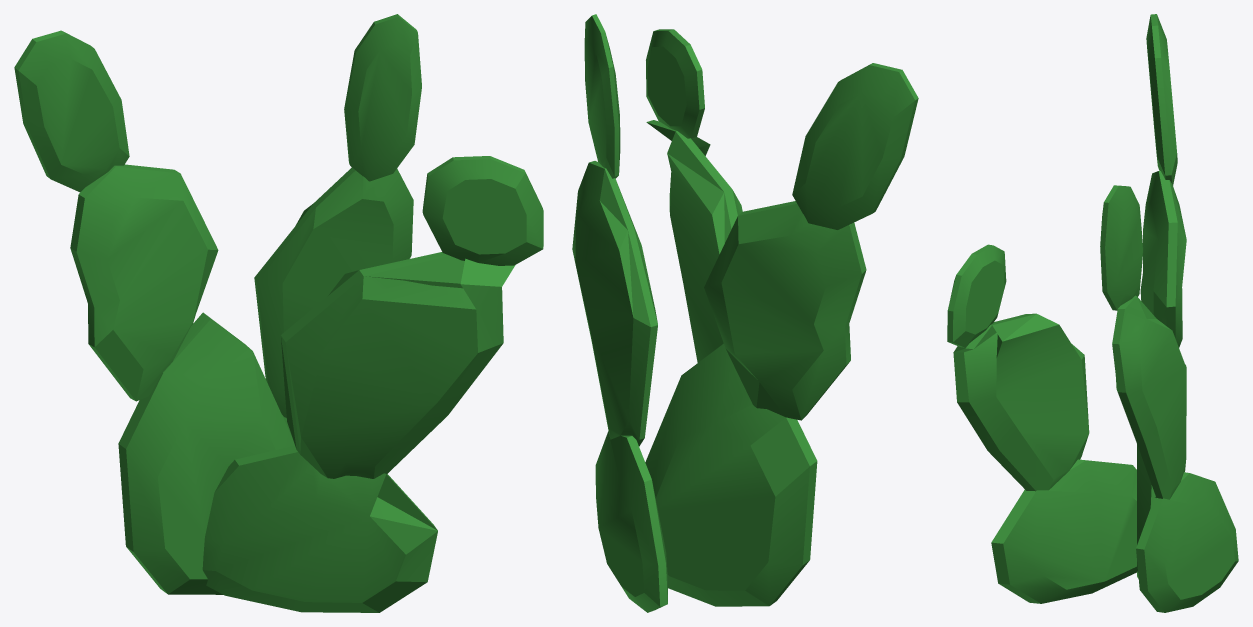
File: Vegetation_Cactus_11.fbx
3 renders of one model, left to right at view 1: azimuth 30°, elevation 25°; view 2: azimuth 150°, elevation 25°; view 3: azimuth 270°, elevation 25°, orthographic. The views are drawn at different scales.
Parts seen in each view (by area): view 1: Vegetation_Cactus_11; view 2: Vegetation_Cactus_11; view 3: Vegetation_Cactus_11.
Boxes of the visible parts, left/top/right/bottom form: Vegetation_Cactus_11: left=14, top=14, right=543, bottom=612; Vegetation_Cactus_11: left=572, top=14, right=918, bottom=612; Vegetation_Cactus_11: left=947, top=14, right=1238, bottom=612.
Size of the model in its own units: 40.59 by 57.51 by 30.8.
